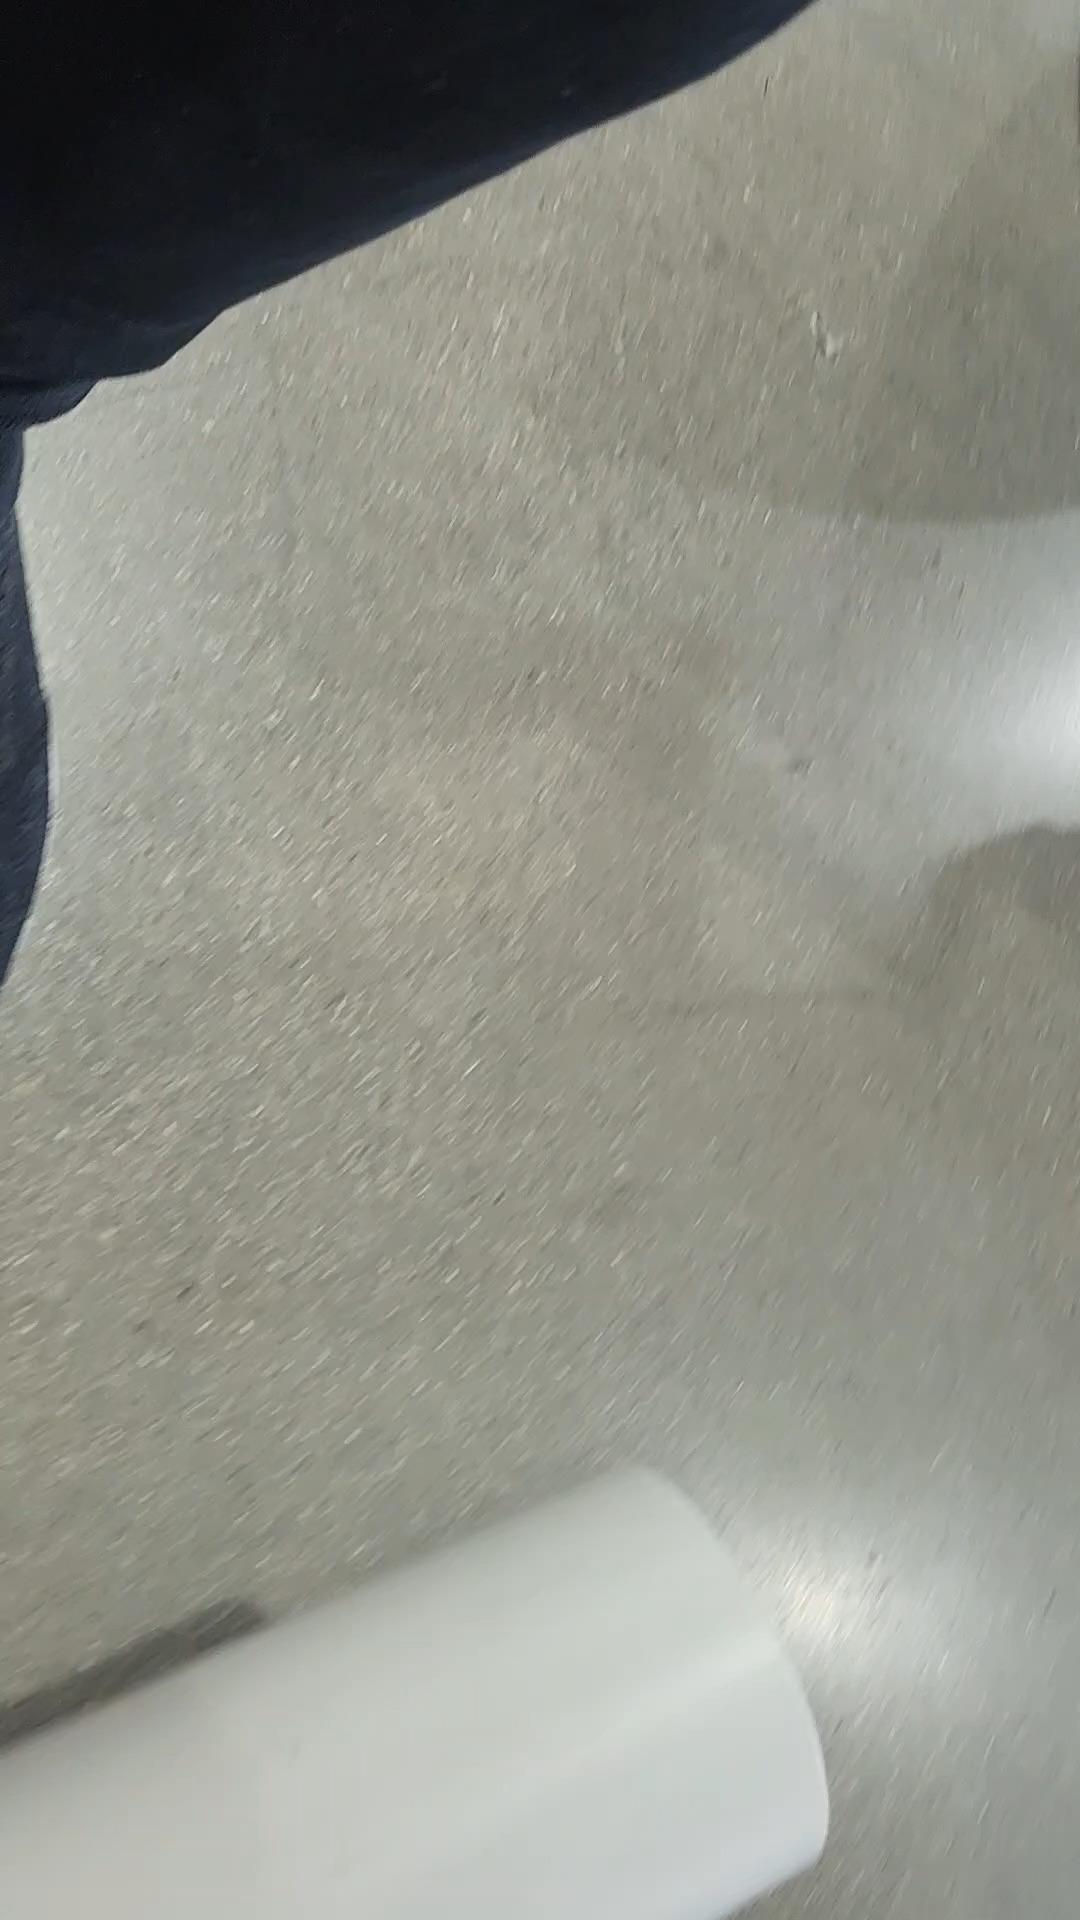coral: (0, 1444, 851, 1920)
